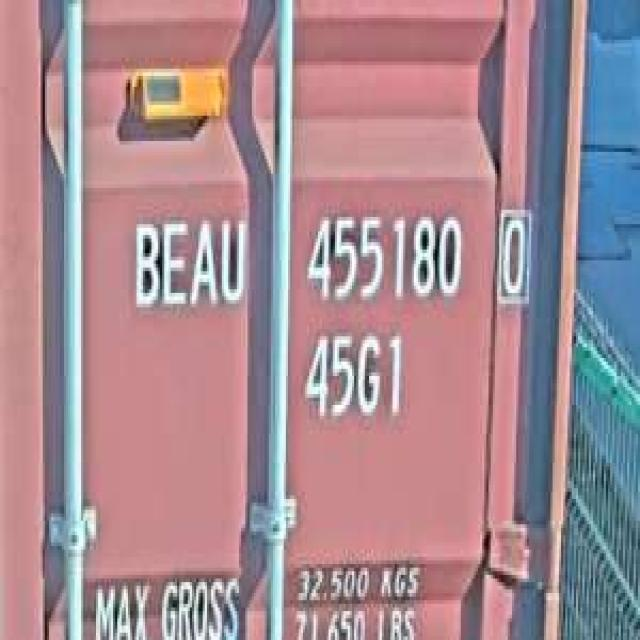dv: (493, 199, 533, 307)
owner: (126, 202, 247, 322)
serial: (301, 202, 467, 311)
size: (298, 322, 408, 430)
